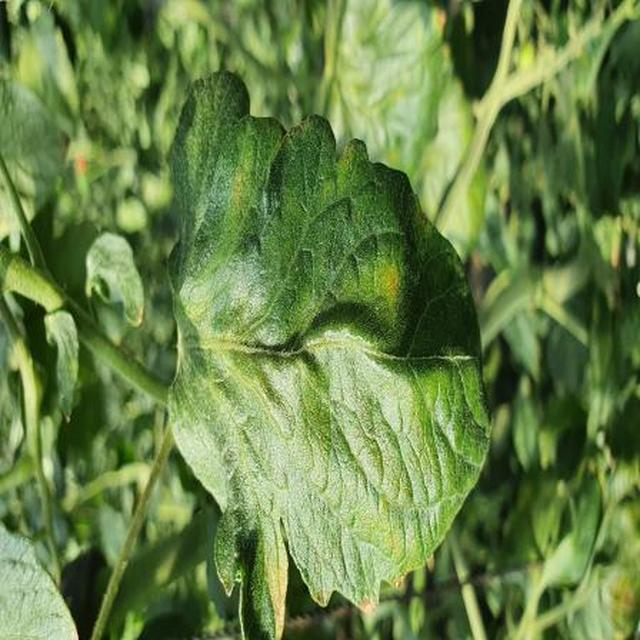Leaf Mold: (237, 184, 640, 640)
